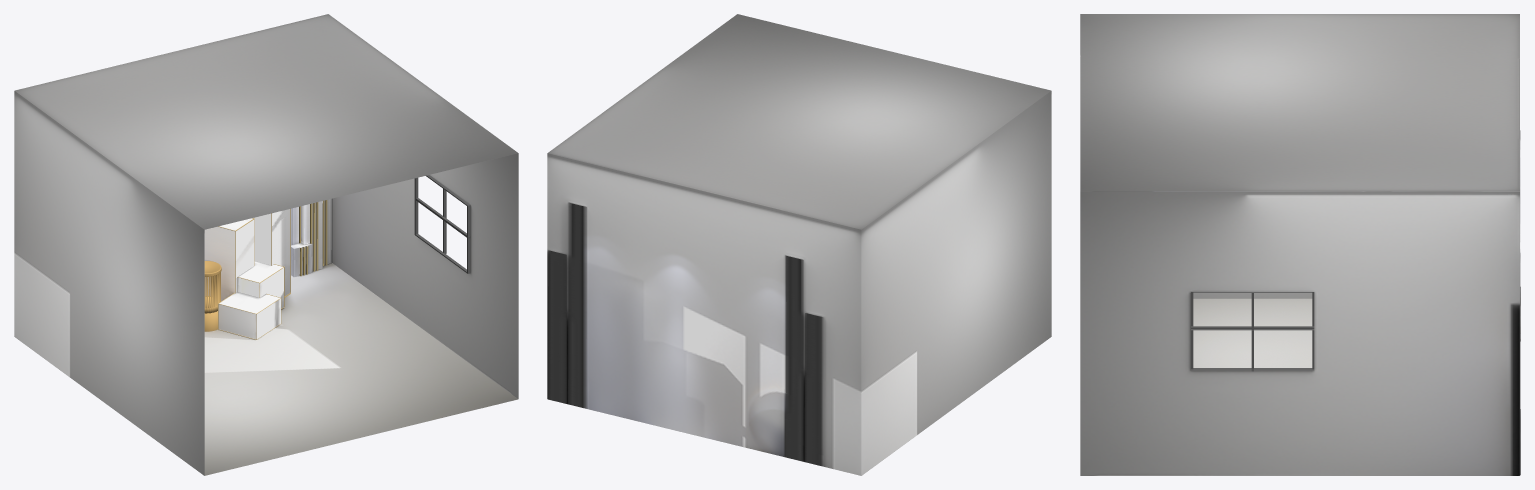
The model's file is white_Simple.glb.
The picture shows the model from 3 angles, left to right: view 1: azimuth 30°, elevation 25°; view 2: azimuth 150°, elevation 25°; view 3: azimuth 270°, elevation 25°; orthographic projection. The views are drawn at different scales.
Parts seen in each view (by area): view 1: qiang, floor_di, chenshe1, jingshu2, jingshu1, jinshu3; view 2: qiang, chenshe1; view 3: qiang, floor_di.
Boxes of the visible parts, left/top/right/bottom form: qiang: left=14, top=14, right=518, bottom=475; floor_di: left=204, top=263, right=517, bottom=475; chenshe1: left=204, top=198, right=331, bottom=339; jingshu2: left=299, top=200, right=327, bottom=276; jingshu1: left=204, top=261, right=221, bottom=331; jinshu3: left=218, top=208, right=290, bottom=339; qiang: left=547, top=14, right=1051, bottom=475; chenshe1: left=548, top=202, right=823, bottom=466; qiang: left=1080, top=14, right=1519, bottom=475; floor_di: left=1193, top=298, right=1312, bottom=367.
Size of the model in its own units: 5.6 by 4.2 by 5.84.
Materials: 9 (4 with a texture image).
